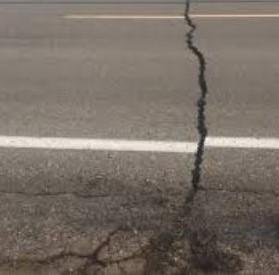crack: (182, 3, 226, 262), (26, 228, 144, 273)
